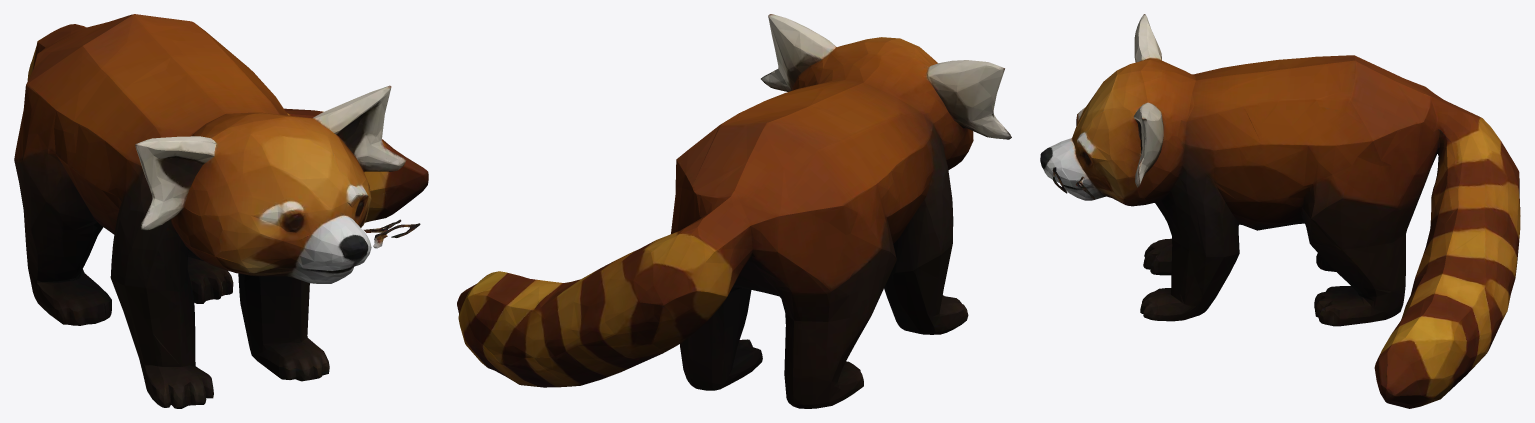
Rendered from redpanda.glb.
The picture shows the model from 3 angles, left to right: view 1: azimuth 30°, elevation 25°; view 2: azimuth 150°, elevation 25°; view 3: azimuth 270°, elevation 25°; orthographic projection. The views are drawn at different scales.
Visible parts, largest first — view 1: world; view 2: world; view 3: world.
Boxes of the visible parts, x1,y1,x2,y2 form: world: (14, 14, 428, 408); world: (457, 14, 1011, 408); world: (1040, 14, 1520, 408).
Size of the model in its own units: 0.8684 by 0.5572 by 0.9955.
1 material, 1 textured.
